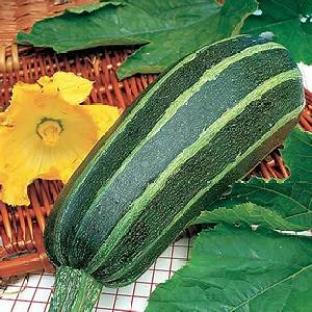Zucchini: (45, 36, 303, 310)
